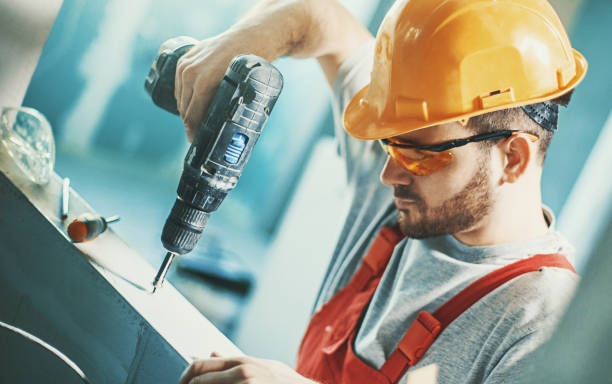driller: (141, 34, 285, 288)
helmet: (341, 1, 588, 241)
person: (296, 1, 587, 384)
screwdriver: (68, 212, 122, 243)
